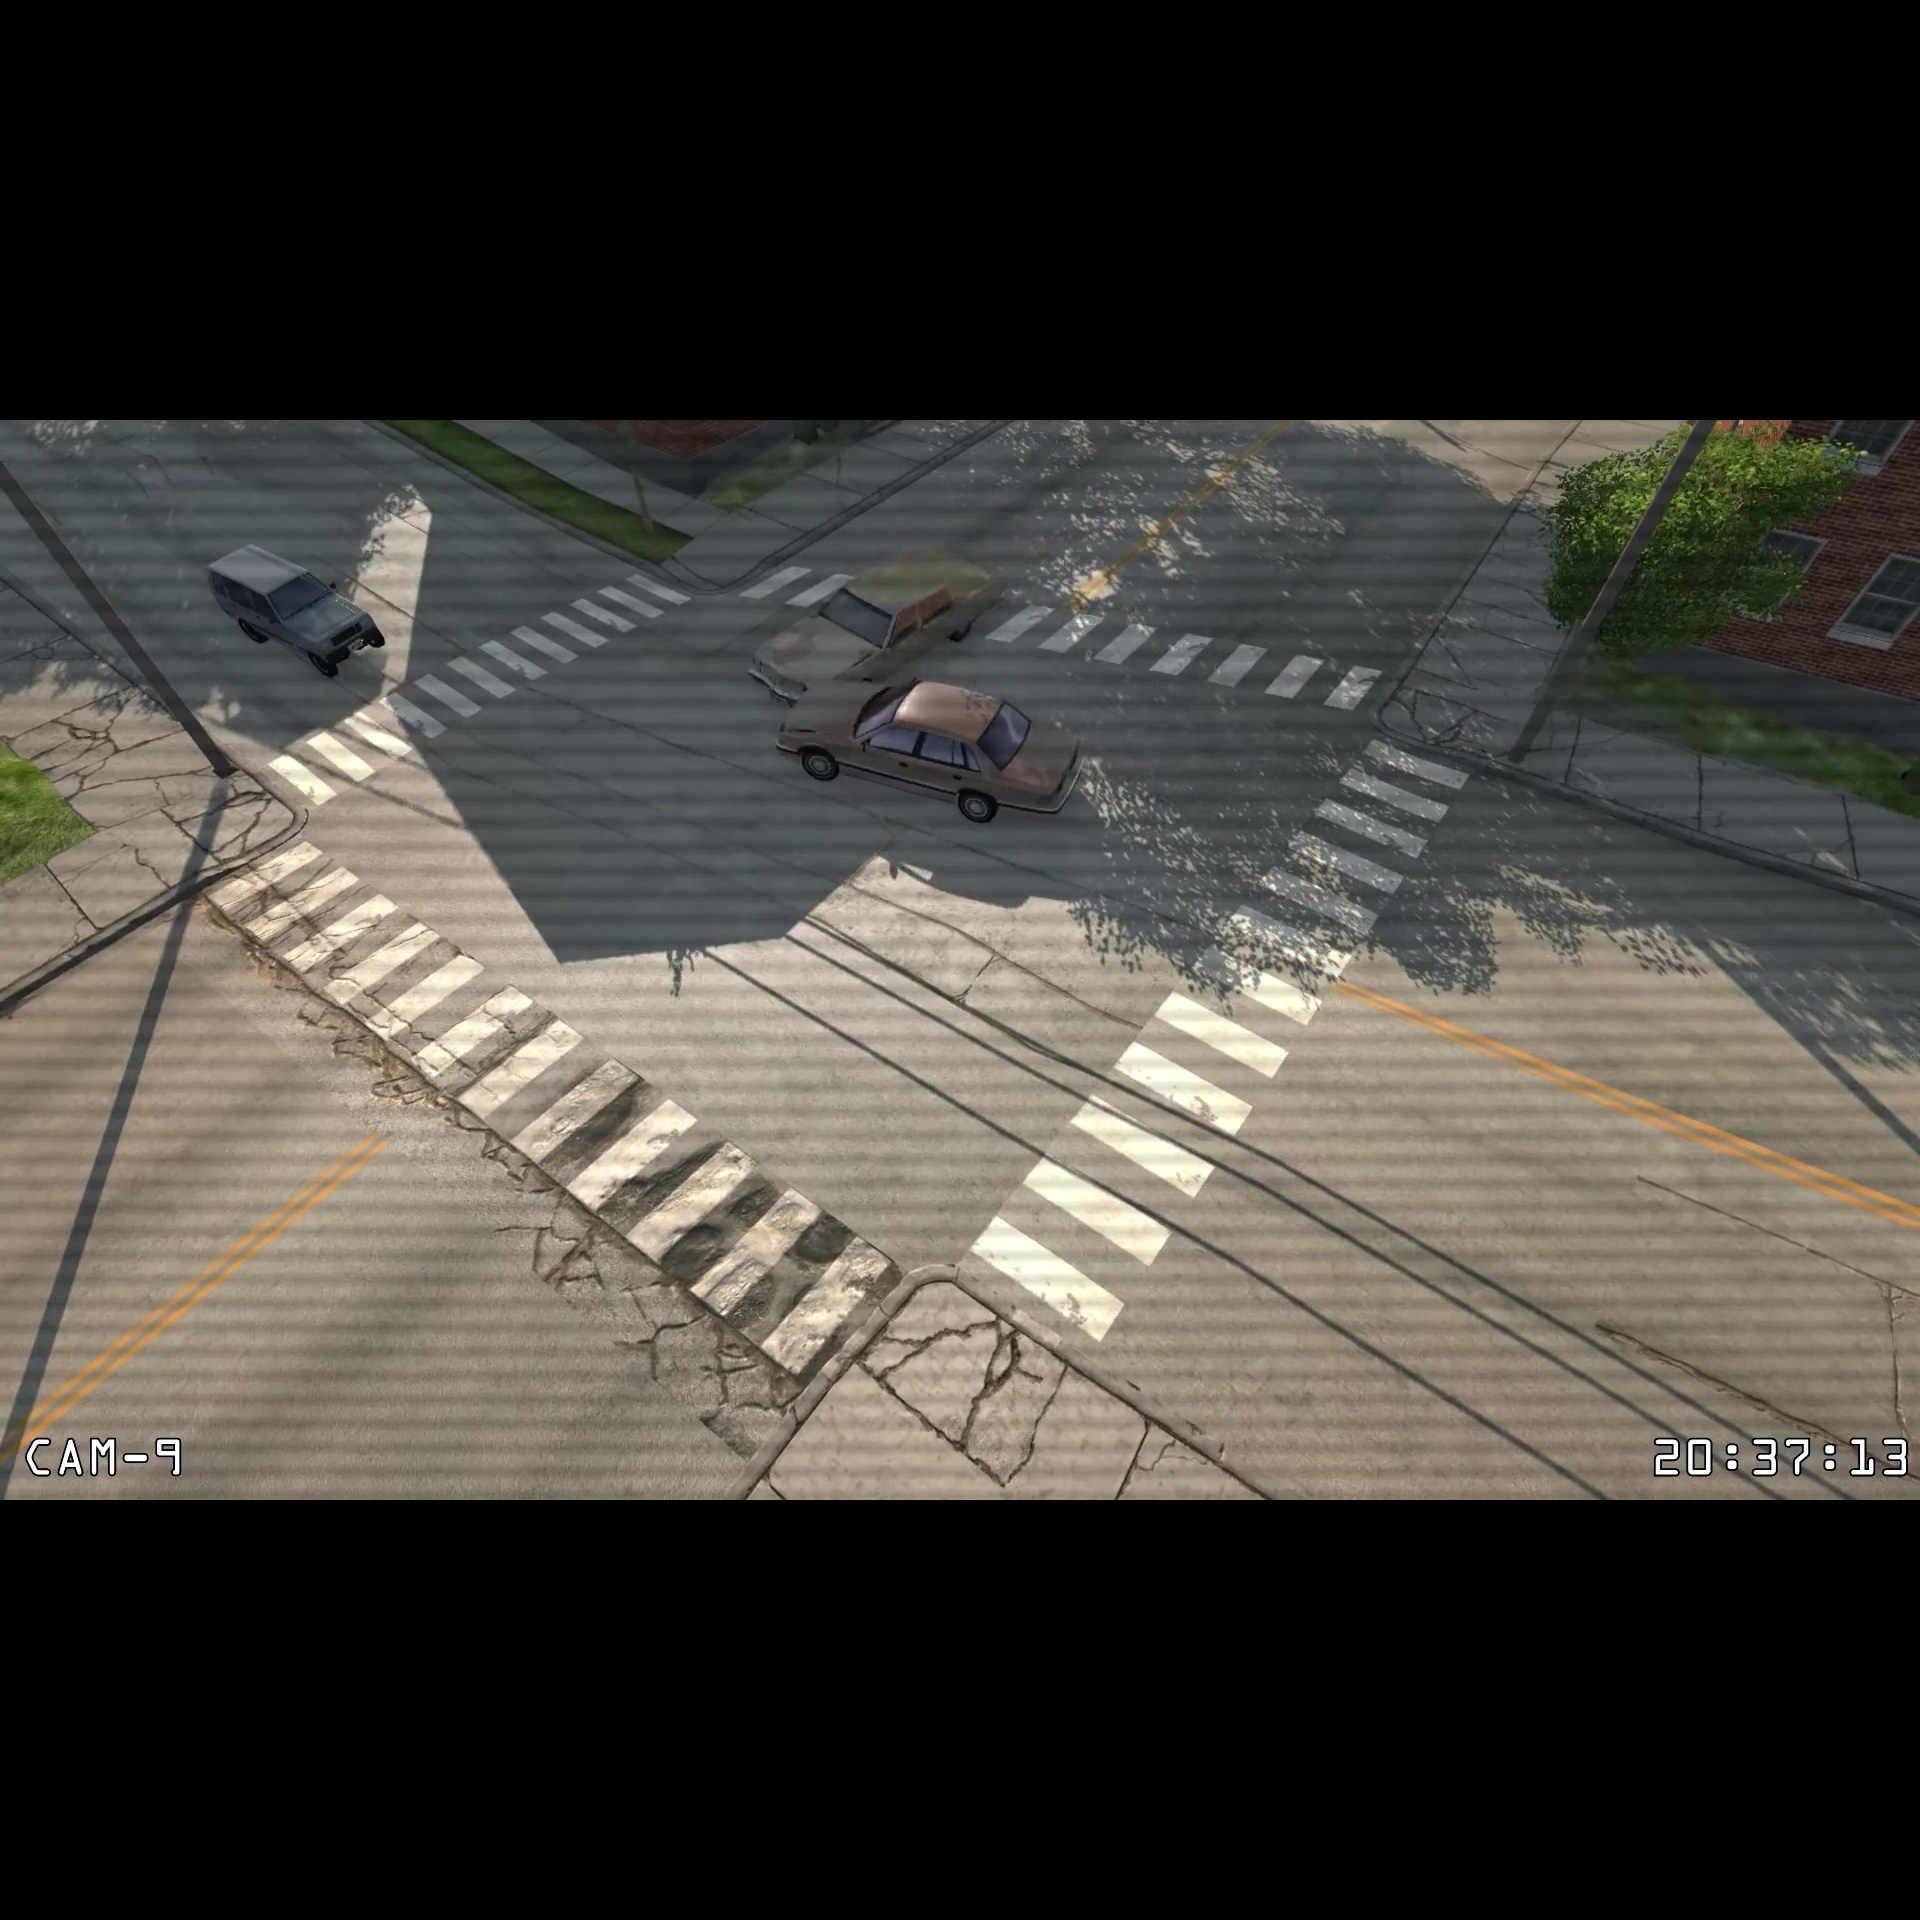vehicle: (768, 663, 1095, 830), (742, 529, 1004, 696), (200, 536, 390, 687)
